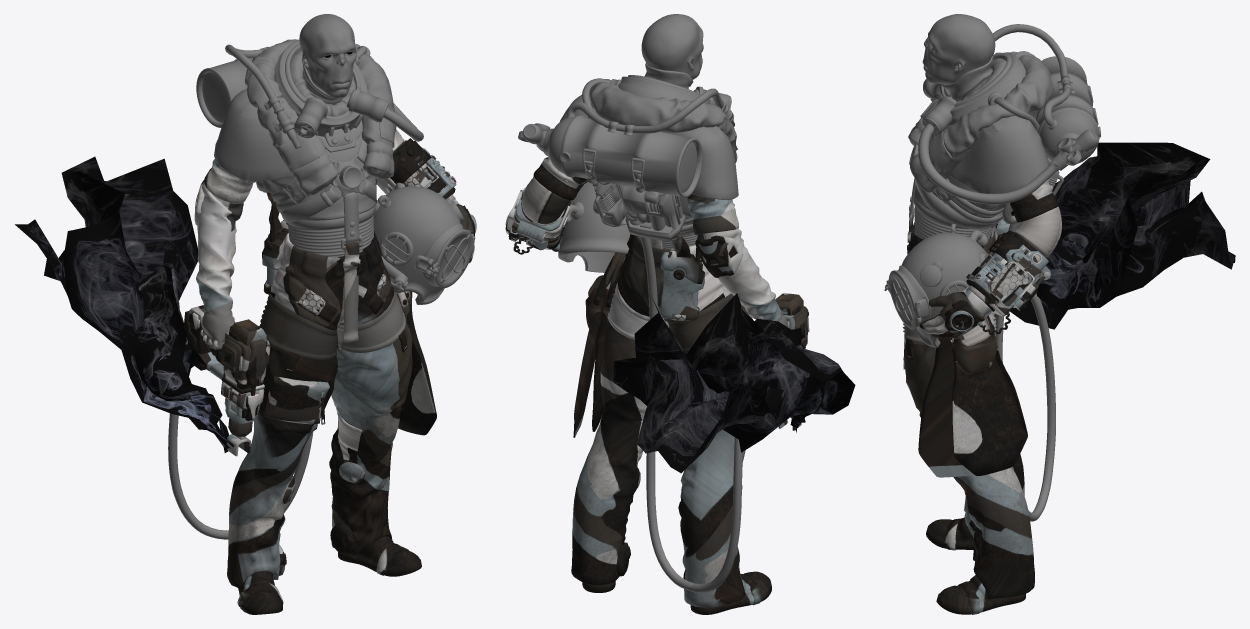
Rendered from Ygark.FBX.
The picture shows the model from 3 angles, left to right: view 1: azimuth 30°, elevation 25°; view 2: azimuth 150°, elevation 25°; view 3: azimuth 270°, elevation 25°; orthographic projection. The views are drawn at different scales.
Parts seen in each view (by area): view 1: mesh0 (×5); view 2: mesh0 (×5); view 3: mesh0 (×4).
Part boxes in pixels (x1=…): mesh0 (×5): x1=15, y1=14, x2=476, y2=614; mesh0 (×5): x1=505, y1=14, x2=855, y2=614; mesh0 (×4): x1=884, y1=14, x2=1235, y2=614.
Bounding box in the file's own units: 64.16 × 100 × 57.09.
